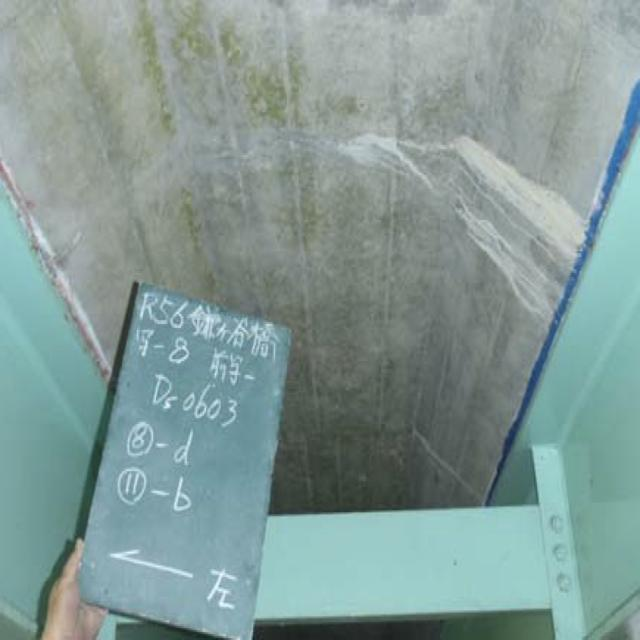freelime: (344, 116, 580, 313)
